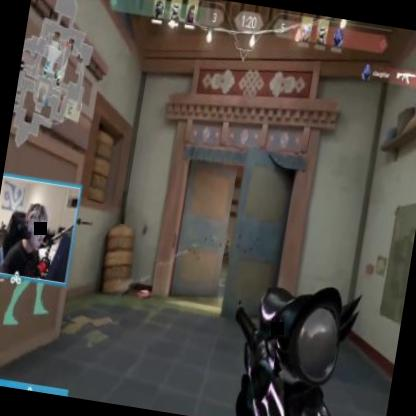enemy: (223, 238, 231, 260)
enemy_head: (226, 238, 230, 244)
